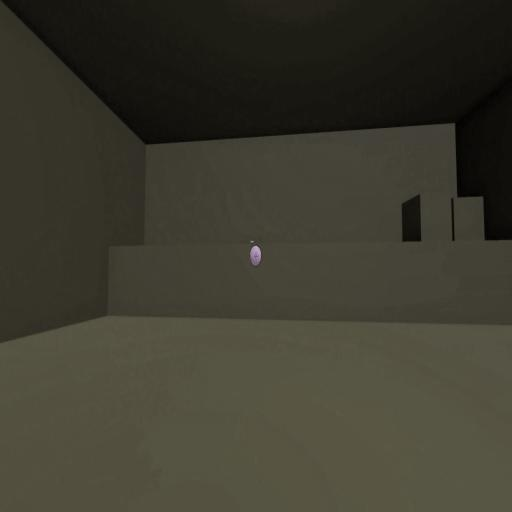Crosshair: (254, 252, 258, 260)
Target: (250, 245, 262, 267)
